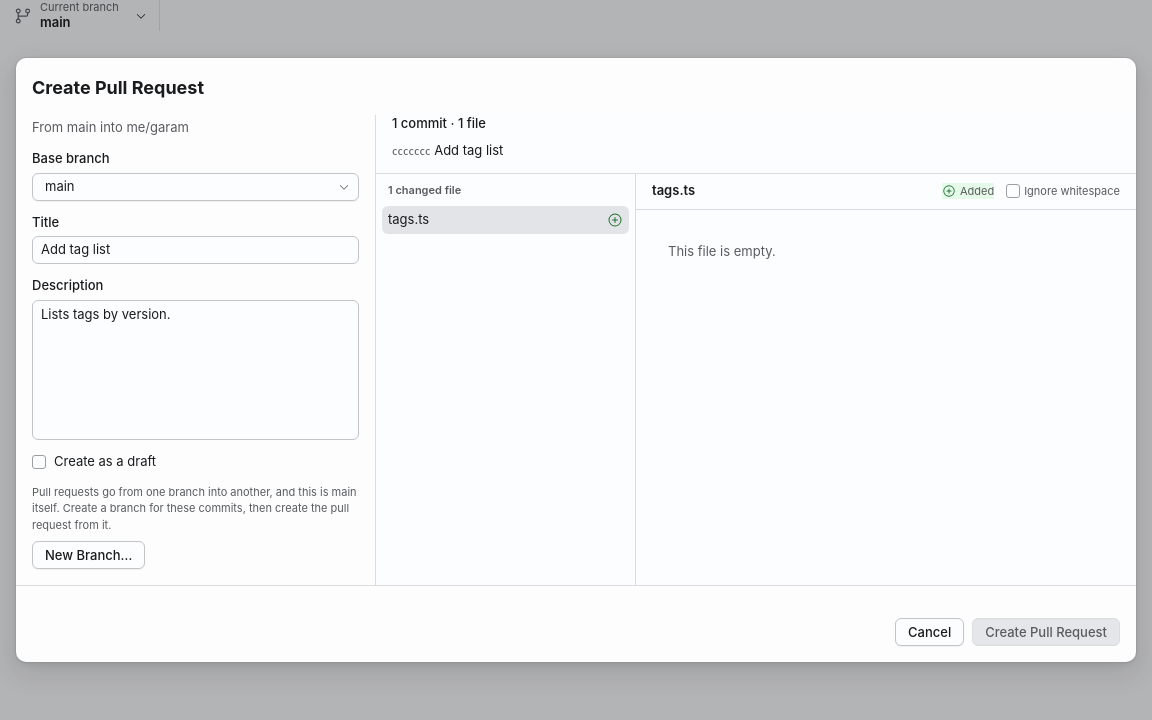
Scenario: creating a pull request › won't ask to merge main into itself
Expected: the text "this is main itself" is shown, [32, 485, 357, 532]
Expected: the button "Create Pull Request" is disabled, [972, 618, 1120, 646]
Click the button "New Branch…". click: (89, 555)
box: [32, 541, 145, 569]
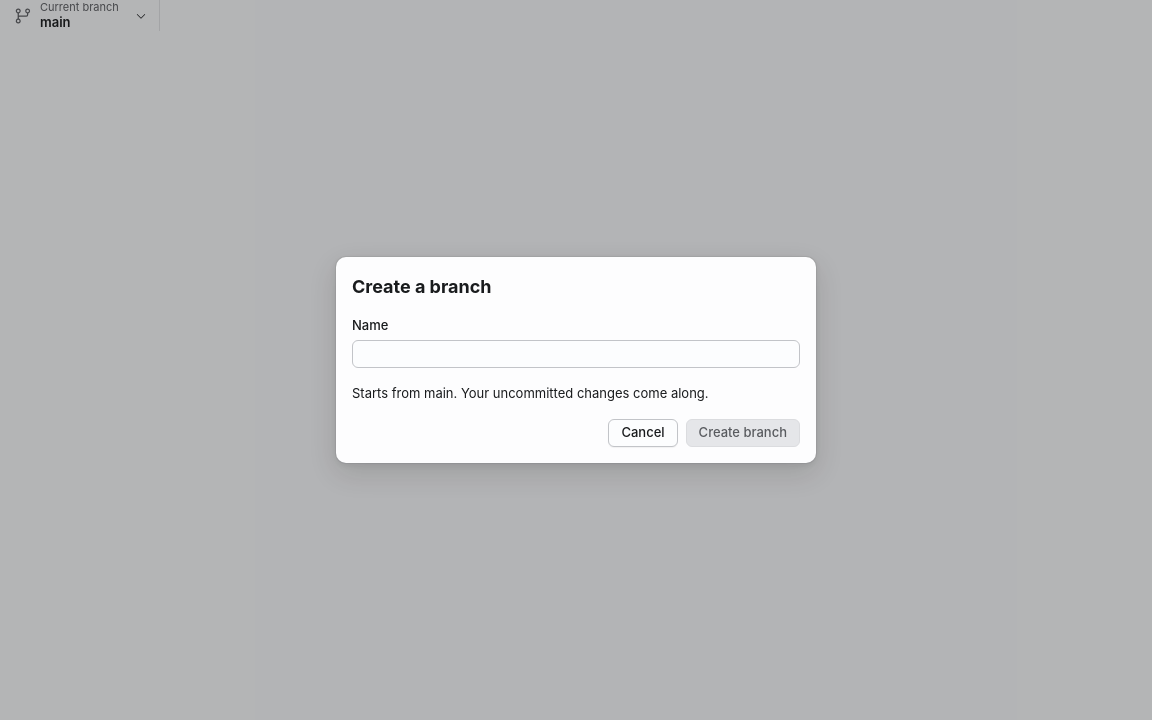
Now the heading "Create Pull Request" is gone
Now the dialog "Create a branch" is shown, box [336, 257, 816, 463]
